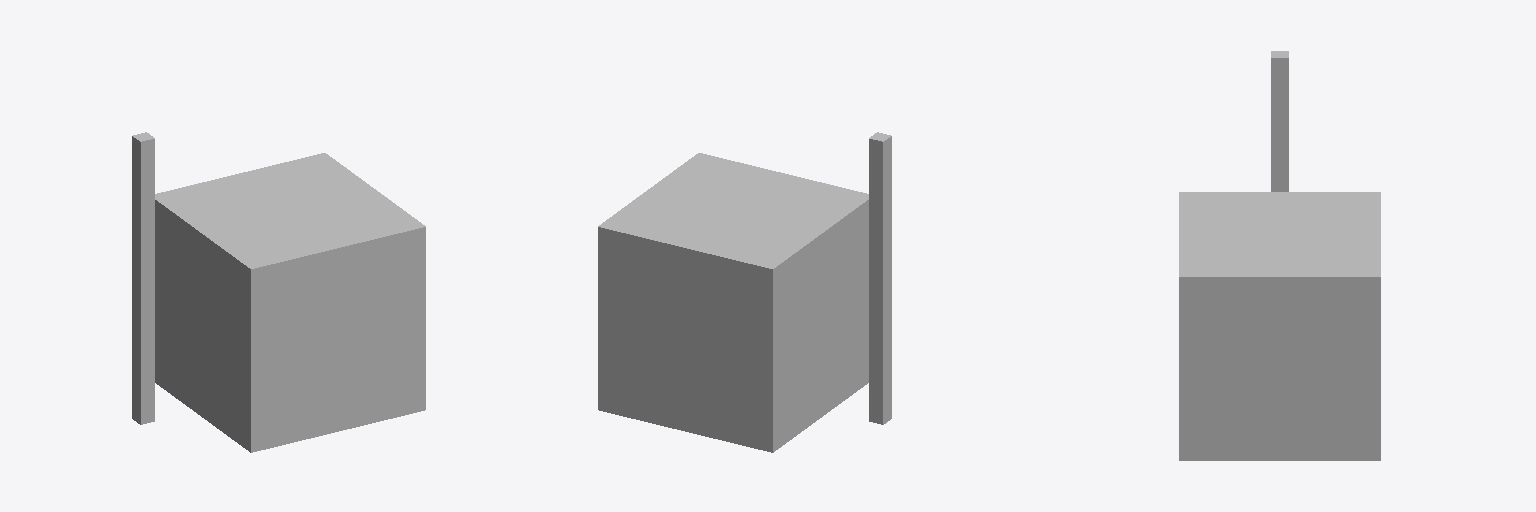
File: Player.obj
The picture shows the model from 3 angles: view 1: azimuth 30°, elevation 25°; view 2: azimuth 150°, elevation 25°; view 3: azimuth 270°, elevation 25°; orthographic projection.
Visible parts, largest first — view 1: body, sword; view 2: body, sword; view 3: body, sword.
Part boxes in pixels (x1,y1,x2,y2): body: (155,153,425,452); sword: (132,132,154,424); body: (598,153,868,452); sword: (869,132,891,424); body: (1179,192,1380,460); sword: (1271,51,1288,191).
Size of the model in its own units: 2.73 by 3.19 by 2.